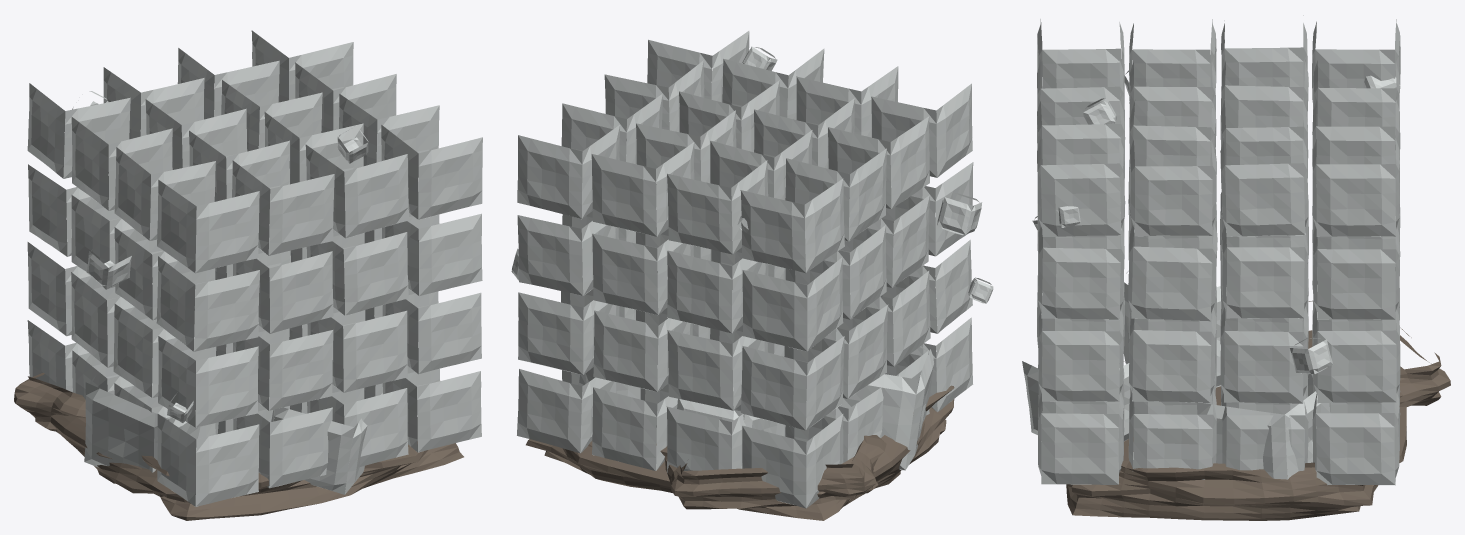
The model's file is halite-lattice.glb.
3 renders of one model, left to right at view 1: azimuth 30°, elevation 25°; view 2: azimuth 150°, elevation 25°; view 3: azimuth 270°, elevation 25°, orthographic. The views are drawn at different scales.
Parts seen in each view (by area): view 1: host_rock, cell_000203, cell_000003, cell_000303, cell_000103, cell_010303, cell_020303, cell_030303, cell_020103, cell_020203, cell_030203, cell_030103 (+38 smaller); view 2: cell_000300, cell_000100, cell_000200, host_rock_back, host_rock, cell_020300, cell_030300, cell_010300, cell_000000, cell_030100, cell_010200, cell_030200 (+35 smaller); view 3: host_rock, cell_030202, cell_030300, cell_030301, cell_030000, cell_030102, cell_030201, cell_030203, cell_030200, cell_030003, cell_030103, cell_030302 (+35 smaller).
Boxes of the visible parts, x1,y1,x2,y2 form: host_rock: [30, 413, 463, 520]; cell_000203: [156, 256, 259, 351]; cell_000003: [157, 414, 259, 506]; cell_000303: [157, 179, 259, 273]; cell_000103: [158, 336, 258, 427]; cell_010303: [232, 160, 334, 255]; cell_020303: [305, 144, 409, 238]; cell_030303: [381, 125, 482, 219]; cell_020103: [307, 310, 407, 392]; cell_020203: [306, 232, 408, 315]; cell_030203: [382, 213, 482, 295]; cell_030103: [382, 292, 481, 374]; cell_000300: [740, 178, 844, 273]; cell_000100: [741, 336, 844, 430]; cell_000200: [742, 257, 843, 351]; host_rock_back: [664, 435, 886, 509]; host_rock: [526, 385, 954, 520]; cell_020300: [591, 142, 694, 236]; cell_030300: [517, 125, 619, 219]; cell_010300: [667, 160, 768, 254]; cell_000000: [742, 414, 843, 508]; cell_030100: [518, 292, 619, 374]; cell_010200: [667, 250, 768, 333]; cell_030200: [517, 215, 618, 295]; host_rock: [1066, 361, 1406, 520]; cell_030202: [1128, 222, 1217, 321]; cell_030300: [1312, 135, 1399, 236]; cell_030301: [1220, 136, 1308, 236]; cell_030000: [1312, 393, 1399, 485]; cell_030102: [1129, 308, 1216, 402]; cell_030201: [1221, 225, 1307, 318]; cell_030203: [1037, 226, 1124, 319]; cell_030200: [1313, 227, 1399, 319]; cell_030003: [1038, 391, 1124, 484]; cell_030103: [1038, 309, 1123, 401]; cell_030302: [1129, 136, 1215, 236].
Bounding box in the file's own units: 1.84 × 1.59 × 1.66.
